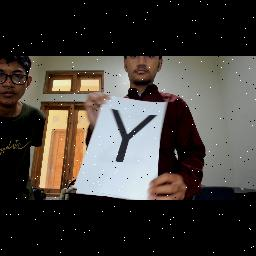y: (106, 105, 158, 173)
